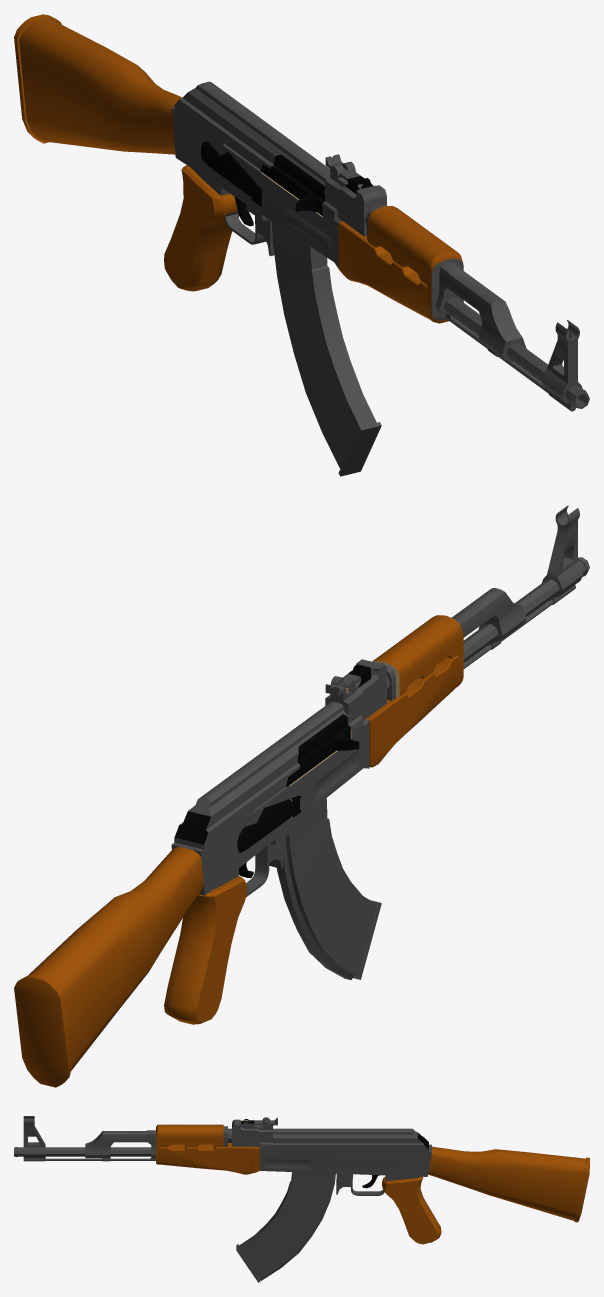
The model's file is AK_Rifle_00.fbx.
3 views of the same model, one above another, from view 1: azimuth 30°, elevation 25°; view 2: azimuth 150°, elevation 25°; view 3: azimuth 270°, elevation 25° (orthographic). The views are drawn at different scales.
Parts seen in each view (by area): view 1: AK_Frame, AK_Magazine, AK_Slide; view 2: AK_Frame, AK_Magazine, AK_Slide; view 3: AK_Frame, AK_Magazine.
Part boxes in pixels (box(x1,y1,x2,y2)): AK_Frame: box(14, 14, 589, 411); AK_Magazine: box(271, 221, 381, 476); AK_Slide: box(260, 154, 325, 215); AK_Frame: box(14, 505, 589, 1087); AK_Magazine: box(276, 798, 381, 979); AK_Slide: box(286, 714, 359, 786); AK_Frame: box(14, 1116, 589, 1244); AK_Magazine: box(236, 1172, 335, 1282).
Bounding box in the file's own units: 0.0573 × 0.3087 × 0.9897.
